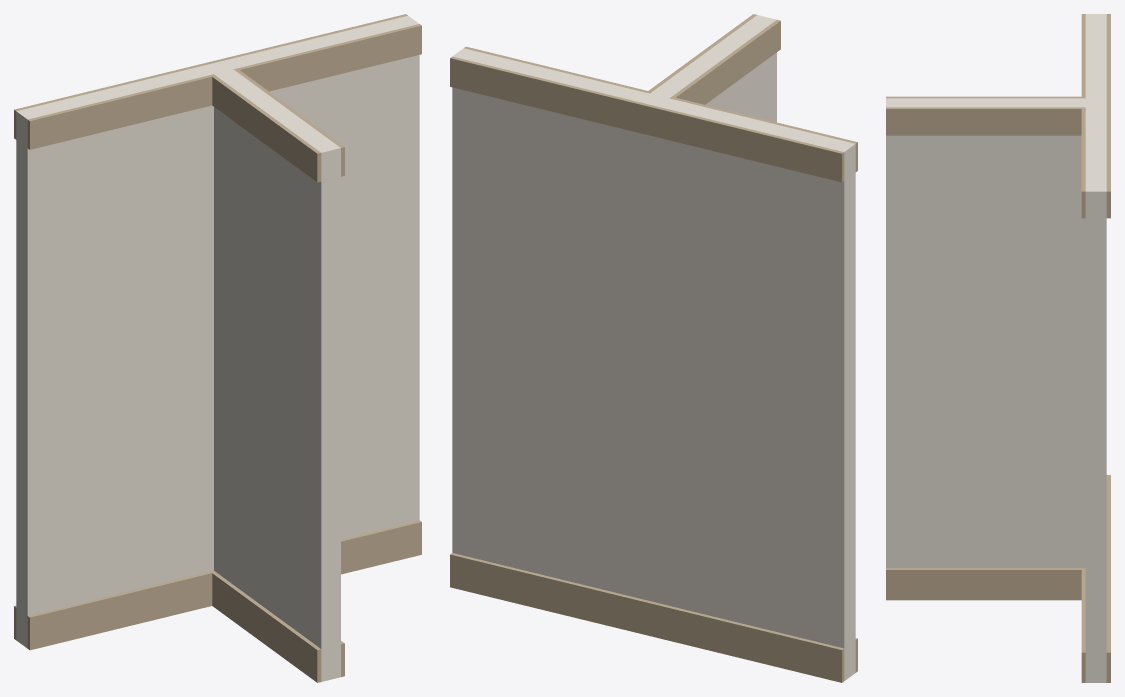
The model's file is partitionTee.glb.
3 renders of one model, left to right at view 1: azimuth 30°, elevation 25°; view 2: azimuth 150°, elevation 25°; view 3: azimuth 270°, elevation 25°, orthographic. The views are drawn at different scales.
Visible parts, largest first — view 1: partitionTee; view 2: partitionTee; view 3: partitionTee.
Part boxes in pixels (x1=…): partitionTee: x1=14, y1=14, x2=421, y2=682; partitionTee: x1=450, y1=14, x2=857, y2=682; partitionTee: x1=886, y1=14, x2=1110, y2=682.
Bounding box in the file's own units: 1 × 1.29 × 0.535.
1 material, 1 textured.
